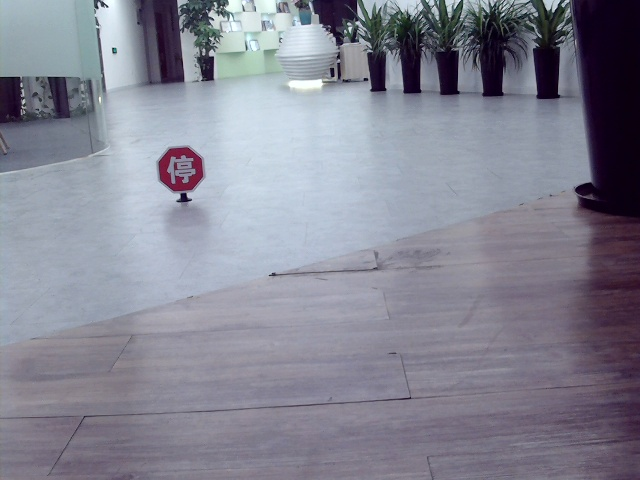stop: (164, 151, 195, 183)
